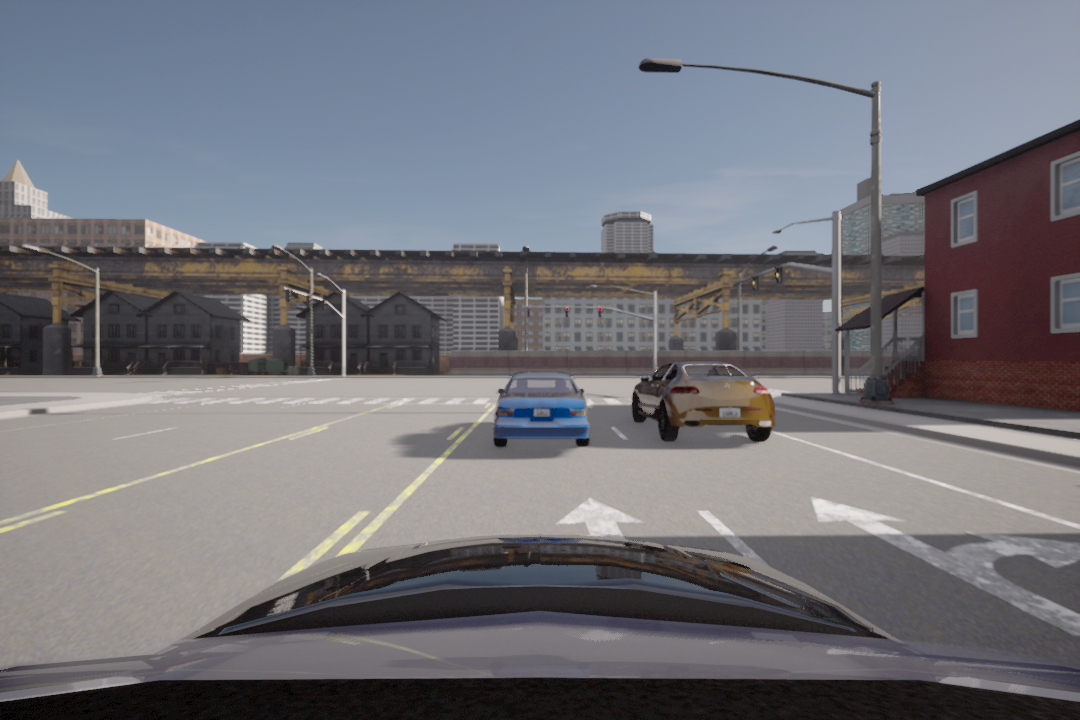RoadSign_forward_right: (797, 491, 1080, 641)
walkside: (159, 392, 632, 407)
